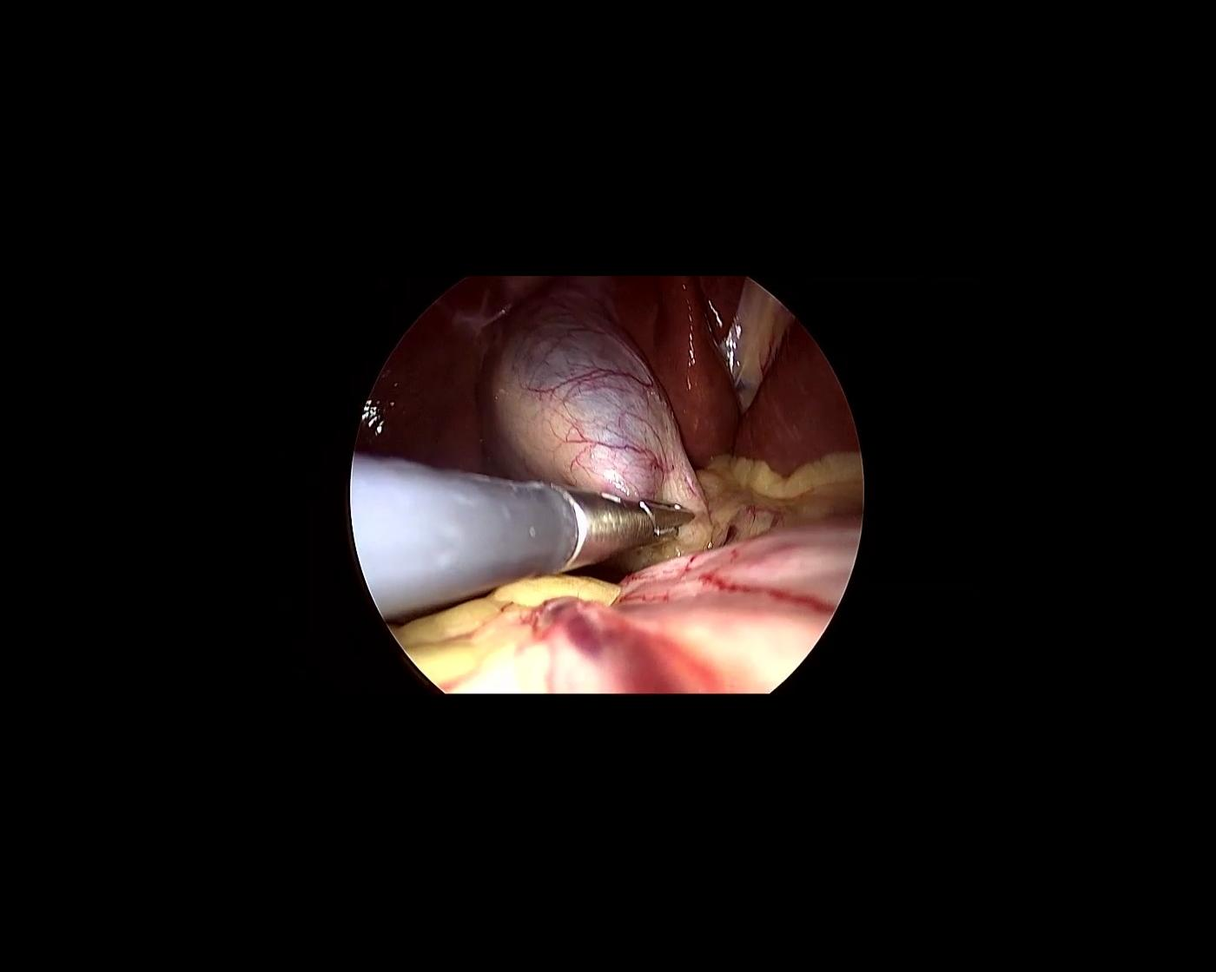Forceps: (333, 455, 698, 667)
Gallbladder: (442, 272, 725, 579)
Liver: (356, 274, 859, 475)
